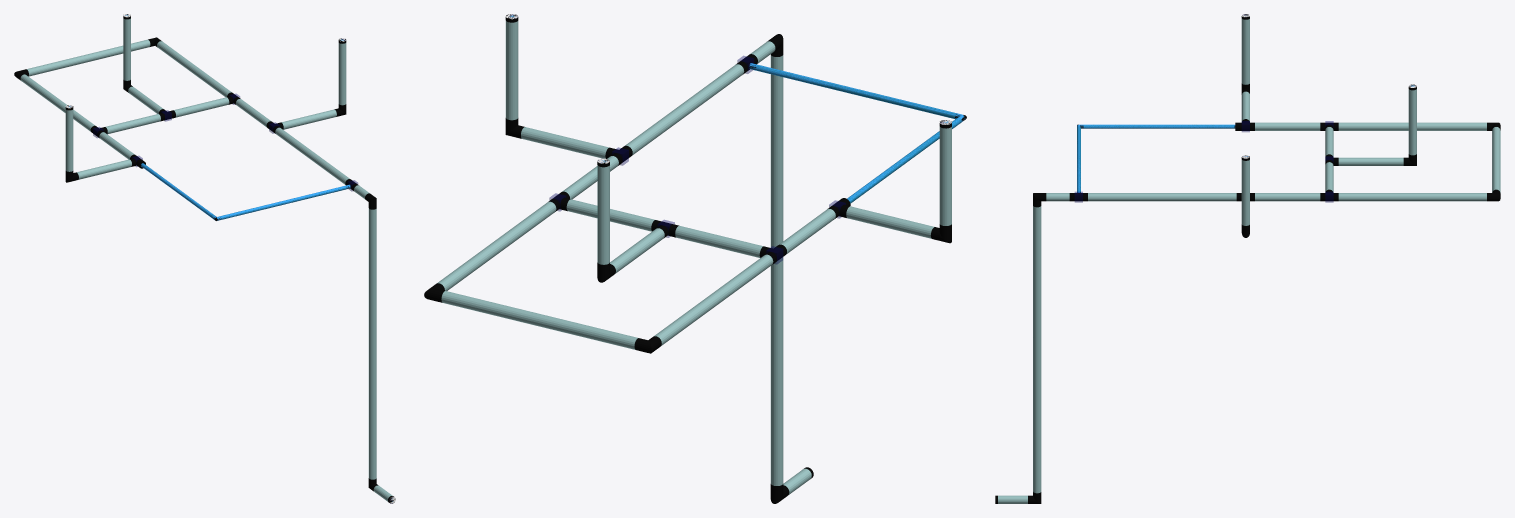
Rendered from TwoLoopsTest.gltf.
The picture shows the model from 3 angles, left to right: view 1: azimuth 30°, elevation 25°; view 2: azimuth 150°, elevation 25°; view 3: azimuth 270°, elevation 25°; orthographic projection. The views are drawn at different scales.
Parts seen in each view (by area): view 1: 49d5e752-3b1c-476d-b7c0-ef5dbe5444a4_mesh, a2872c63-c6e9-4d33-b1fd-0ba4267faf1f_mesh, 73c6dd4c-2941-4064-a8fc-b396d310e02a_mesh, 49d44578-aff7-4c1f-becf-ff4a0053cf4a_mesh, f3c59c63-96cf-4742-bb86-cbed6065d28b_mesh, 2064559f-fa0a-4585-9d9d-505ba4cc324a_mesh, dbab2b1d-9cb1-472a-9a0a-74b63bef2d45_mesh, 483a8655-e35e-4cf3-8147-c8d6c068d413_mesh, fe3f87ec-a73a-4c03-838e-9feb86a09533_mesh, 4e1bf6e3-a750-477d-92dc-6d3ef33224a8_mesh, 06b3cdf5-4a74-450e-970d-1dfe9fc6fa3e_mesh, e36952c5-0466-4f0b-a5c9-1bb75e06e58d_mesh (+13 smaller); view 2: 49d5e752-3b1c-476d-b7c0-ef5dbe5444a4_mesh, a2872c63-c6e9-4d33-b1fd-0ba4267faf1f_mesh, 49d44578-aff7-4c1f-becf-ff4a0053cf4a_mesh, f3c59c63-96cf-4742-bb86-cbed6065d28b_mesh, 73c6dd4c-2941-4064-a8fc-b396d310e02a_mesh, 4e1bf6e3-a750-477d-92dc-6d3ef33224a8_mesh, 2064559f-fa0a-4585-9d9d-505ba4cc324a_mesh, dbab2b1d-9cb1-472a-9a0a-74b63bef2d45_mesh, 483a8655-e35e-4cf3-8147-c8d6c068d413_mesh, 06b3cdf5-4a74-450e-970d-1dfe9fc6fa3e_mesh, fe3f87ec-a73a-4c03-838e-9feb86a09533_mesh, 21ddb3c1-412e-454b-9db3-9a96658ced2e_mesh (+20 smaller); view 3: 49d5e752-3b1c-476d-b7c0-ef5dbe5444a4_mesh, a2872c63-c6e9-4d33-b1fd-0ba4267faf1f_mesh, 2064559f-fa0a-4585-9d9d-505ba4cc324a_mesh, dbab2b1d-9cb1-472a-9a0a-74b63bef2d45_mesh, 4e1bf6e3-a750-477d-92dc-6d3ef33224a8_mesh, 483a8655-e35e-4cf3-8147-c8d6c068d413_mesh, fe3f87ec-a73a-4c03-838e-9feb86a09533_mesh, 06b3cdf5-4a74-450e-970d-1dfe9fc6fa3e_mesh, 73c6dd4c-2941-4064-a8fc-b396d310e02a_mesh, ac182269-2d56-42ce-9418-2f6d0415b3a3_mesh, 21ddb3c1-412e-454b-9db3-9a96658ced2e_mesh, e36952c5-0466-4f0b-a5c9-1bb75e06e58d_mesh (+4 smaller).
Boxes of the visible parts, x1=… form: 49d5e752-3b1c-476d-b7c0-ef5dbe5444a4_mesh: x1=369, y1=209, x2=376, y2=479; a2872c63-c6e9-4d33-b1fd-0ba4267faf1f_mesh: x1=369, y1=209, x2=376, y2=479; 73c6dd4c-2941-4064-a8fc-b396d310e02a_mesh: x1=141, y1=163, x2=350, y2=220; 49d44578-aff7-4c1f-becf-ff4a0053cf4a_mesh: x1=27, y1=39, x2=150, y2=76; f3c59c63-96cf-4742-bb86-cbed6065d28b_mesh: x1=27, y1=40, x2=149, y2=76; 2064559f-fa0a-4585-9d9d-505ba4cc324a_mesh: x1=275, y1=127, x2=349, y2=184; dbab2b1d-9cb1-472a-9a0a-74b63bef2d45_mesh: x1=157, y1=41, x2=231, y2=97; 483a8655-e35e-4cf3-8147-c8d6c068d413_mesh: x1=275, y1=128, x2=349, y2=184; fe3f87ec-a73a-4c03-838e-9feb86a09533_mesh: x1=157, y1=41, x2=230, y2=96; 4e1bf6e3-a750-477d-92dc-6d3ef33224a8_mesh: x1=20, y1=74, x2=94, y2=131; 06b3cdf5-4a74-450e-970d-1dfe9fc6fa3e_mesh: x1=20, y1=74, x2=94, y2=131; e36952c5-0466-4f0b-a5c9-1bb75e06e58d_mesh: x1=65, y1=105, x2=73, y2=171; 49d5e752-3b1c-476d-b7c0-ef5dbe5444a4_mesh: x1=771, y1=55, x2=783, y2=485; a2872c63-c6e9-4d33-b1fd-0ba4267faf1f_mesh: x1=771, y1=56, x2=782, y2=485; 49d44578-aff7-4c1f-becf-ff4a0053cf4a_mesh: x1=441, y1=291, x2=637, y2=349; f3c59c63-96cf-4742-bb86-cbed6065d28b_mesh: x1=441, y1=291, x2=637, y2=349; 73c6dd4c-2941-4064-a8fc-b396d310e02a_mesh: x1=749, y1=63, x2=965, y2=203; 4e1bf6e3-a750-477d-92dc-6d3ef33224a8_mesh: x1=654, y1=254, x2=773, y2=345; 2064559f-fa0a-4585-9d9d-505ba4cc324a_mesh: x1=625, y1=64, x2=743, y2=155; dbab2b1d-9cb1-472a-9a0a-74b63bef2d45_mesh: x1=437, y1=201, x2=556, y2=290; 483a8655-e35e-4cf3-8147-c8d6c068d413_mesh: x1=625, y1=64, x2=743, y2=155; 06b3cdf5-4a74-450e-970d-1dfe9fc6fa3e_mesh: x1=655, y1=255, x2=772, y2=345; fe3f87ec-a73a-4c03-838e-9feb86a09533_mesh: x1=438, y1=202, x2=555, y2=290; 21ddb3c1-412e-454b-9db3-9a96658ced2e_mesh: x1=597, y1=158, x2=609, y2=264; 49d5e752-3b1c-476d-b7c0-ef5dbe5444a4_mesh: x1=1033, y1=206, x2=1041, y2=493; a2872c63-c6e9-4d33-b1fd-0ba4267faf1f_mesh: x1=1033, y1=206, x2=1040, y2=492; 2064559f-fa0a-4585-9d9d-505ba4cc324a_mesh: x1=1088, y1=193, x2=1236, y2=201; dbab2b1d-9cb1-472a-9a0a-74b63bef2d45_mesh: x1=1338, y1=193, x2=1486, y2=201; 4e1bf6e3-a750-477d-92dc-6d3ef33224a8_mesh: x1=1338, y1=122, x2=1486, y2=130; 483a8655-e35e-4cf3-8147-c8d6c068d413_mesh: x1=1088, y1=193, x2=1236, y2=200; fe3f87ec-a73a-4c03-838e-9feb86a09533_mesh: x1=1339, y1=193, x2=1486, y2=200; 06b3cdf5-4a74-450e-970d-1dfe9fc6fa3e_mesh: x1=1339, y1=123, x2=1486, y2=130; 73c6dd4c-2941-4064-a8fc-b396d310e02a_mesh: x1=1077, y1=124, x2=1235, y2=192; ac182269-2d56-42ce-9418-2f6d0415b3a3_mesh: x1=1241, y1=155, x2=1249, y2=225; 21ddb3c1-412e-454b-9db3-9a96658ced2e_mesh: x1=1408, y1=85, x2=1416, y2=155; e36952c5-0466-4f0b-a5c9-1bb75e06e58d_mesh: x1=1241, y1=14, x2=1249, y2=84.
Size of the model in its own units: 4.1 by 5.05 by 6.05.
